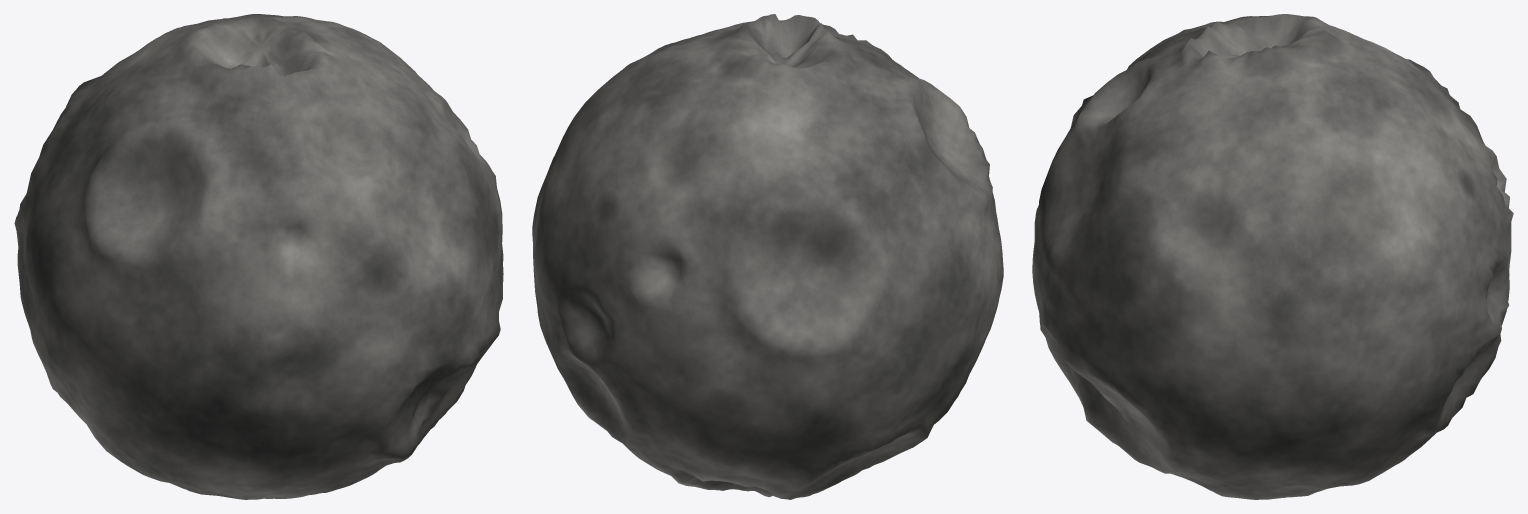
The model's file is rogue-moon.glb.
3 renders of one model, left to right at view 1: azimuth 30°, elevation 25°; view 2: azimuth 150°, elevation 25°; view 3: azimuth 270°, elevation 25°, orthographic. The views are drawn at different scales.
Parts seen in each view (by area): view 1: rogue-moon; view 2: rogue-moon; view 3: rogue-moon.
Part boxes in pixels (box(x1,y1,x2,y2)): rogue-moon: box(14, 14, 503, 499); rogue-moon: box(532, 14, 1003, 499); rogue-moon: box(1032, 14, 1513, 499).
Size of the model in its own units: 1.92 by 1.94 by 1.91.
Materials: 1 (1 with a texture image).
